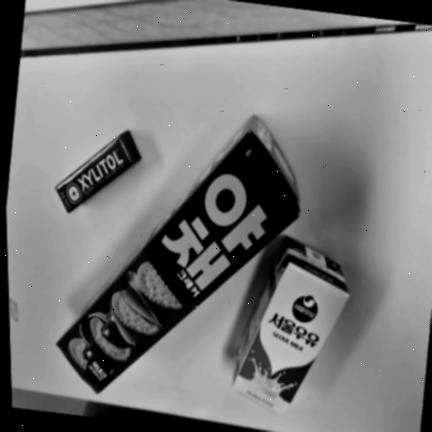cracker_vege: (55, 114, 299, 393)
gum_green: (55, 130, 140, 212)
milk_green: (232, 236, 349, 413)
